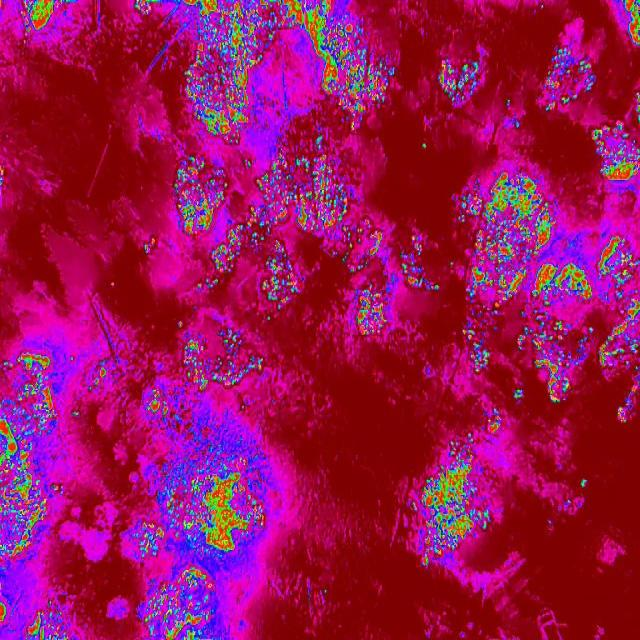fire: (174, 152, 443, 324), (124, 330, 273, 640), (451, 166, 596, 399), (130, 0, 280, 144), (278, 0, 397, 131), (409, 405, 503, 566), (592, 119, 640, 425), (0, 351, 64, 561), (534, 42, 596, 112), (430, 46, 488, 112), (24, 599, 75, 640), (607, 0, 640, 60), (80, 352, 115, 408), (18, 0, 58, 29), (533, 492, 587, 512), (504, 95, 522, 135), (631, 86, 640, 134), (142, 232, 156, 258), (0, 596, 7, 630), (315, 136, 326, 150), (580, 475, 588, 493), (418, 139, 429, 152), (58, 0, 84, 4), (71, 410, 80, 419), (320, 588, 330, 596), (69, 353, 74, 362)
